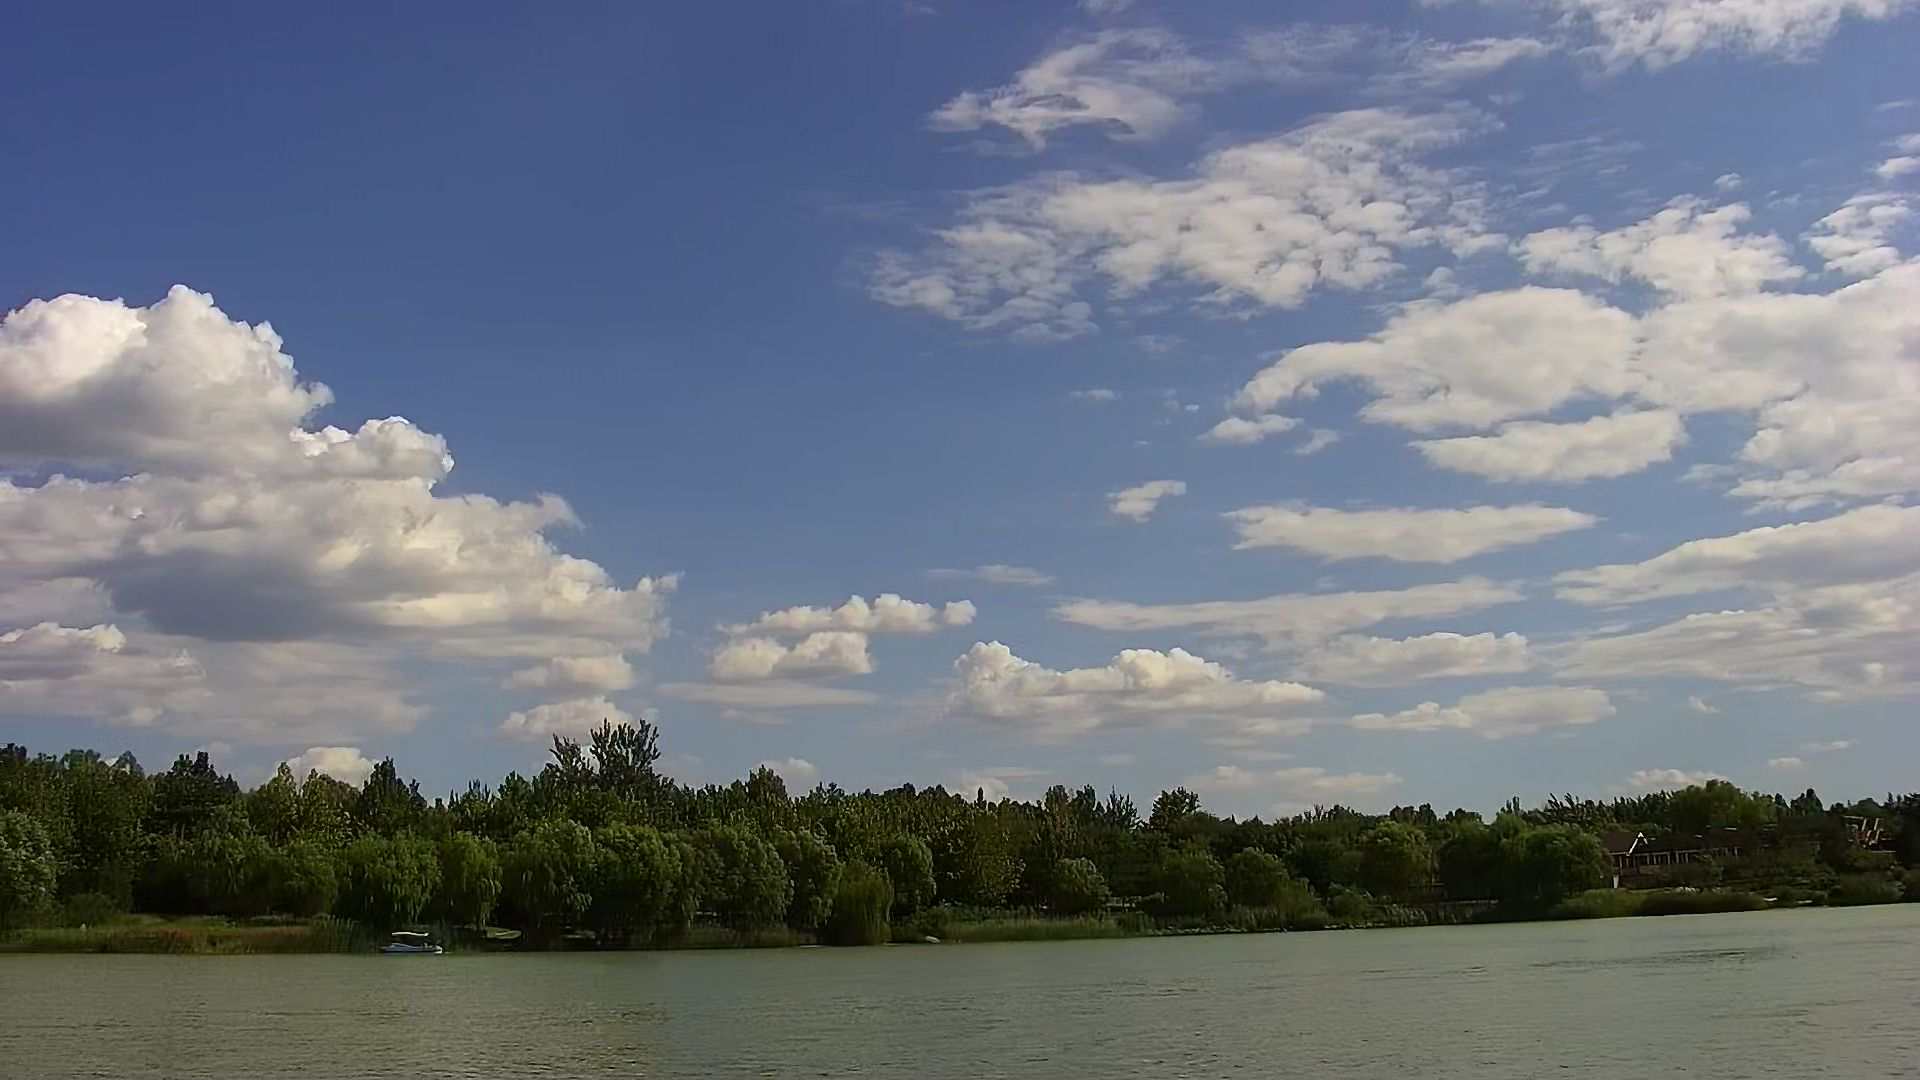boat: (378, 927, 447, 957)
